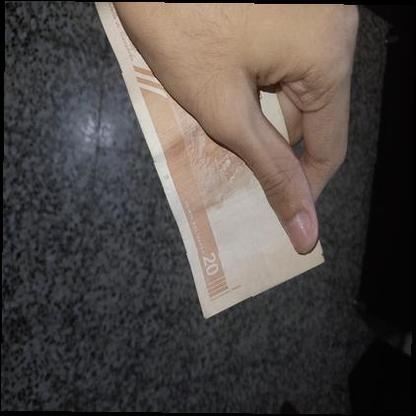twenty-back-vef: (93, 0, 324, 319)
